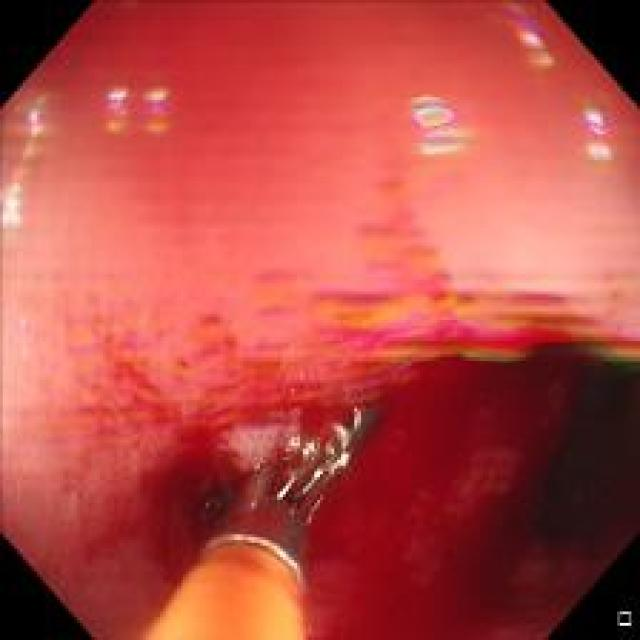color misalignment: (391, 326, 638, 370), (486, 6, 554, 65), (409, 98, 469, 160), (571, 96, 615, 168), (18, 96, 48, 175), (96, 76, 131, 135), (139, 78, 165, 150)
contrast: (504, 341, 638, 592)
instrument: (128, 395, 400, 636)
specularity: (406, 96, 458, 155), (4, 181, 22, 236), (276, 470, 295, 500), (334, 445, 355, 471)
